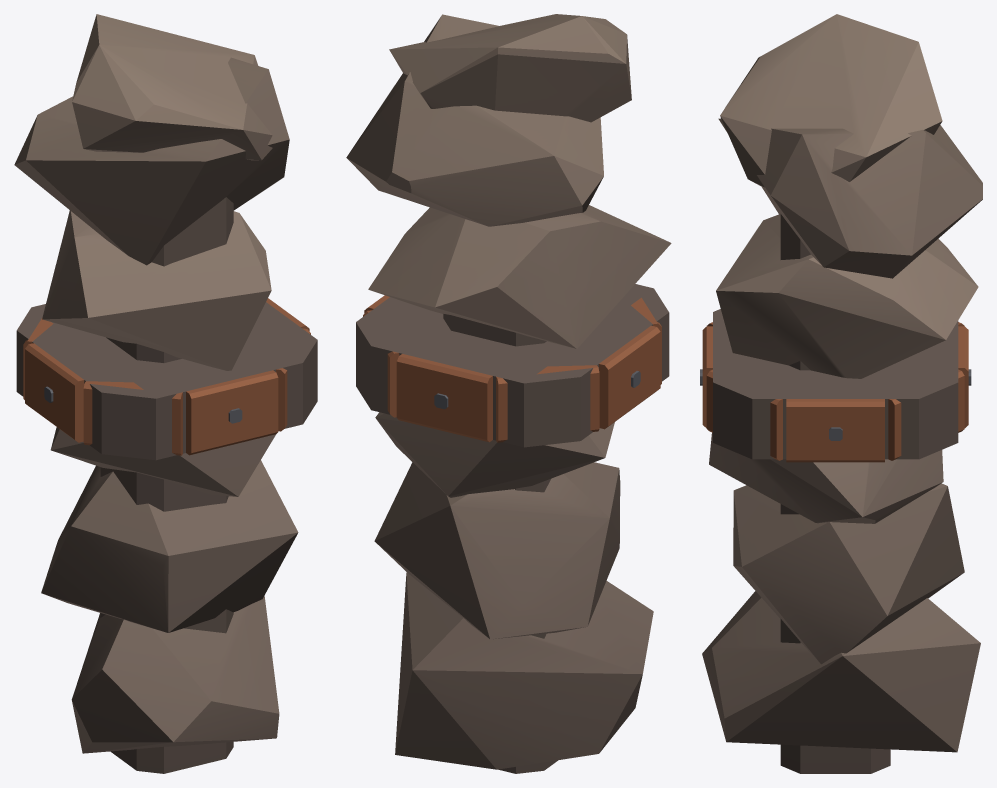
The model's file is wall_cave_pillar_B.glb.
The picture shows the model from 3 angles, left to right: view 1: azimuth 30°, elevation 25°; view 2: azimuth 150°, elevation 25°; view 3: azimuth 270°, elevation 25°; orthographic projection. The views are drawn at different scales.
Parts seen in each view (by area): view 1: Item; view 2: Item; view 3: Item.
Boxes of the visible parts, x1,y1,x2,y2 form: Item: [14, 14, 317, 773]; Item: [346, 14, 671, 773]; Item: [700, 14, 982, 773].
Bounding box in the file's own units: 1.41 × 3.96 × 1.44.
Materials: 2 (2 with a texture image).
